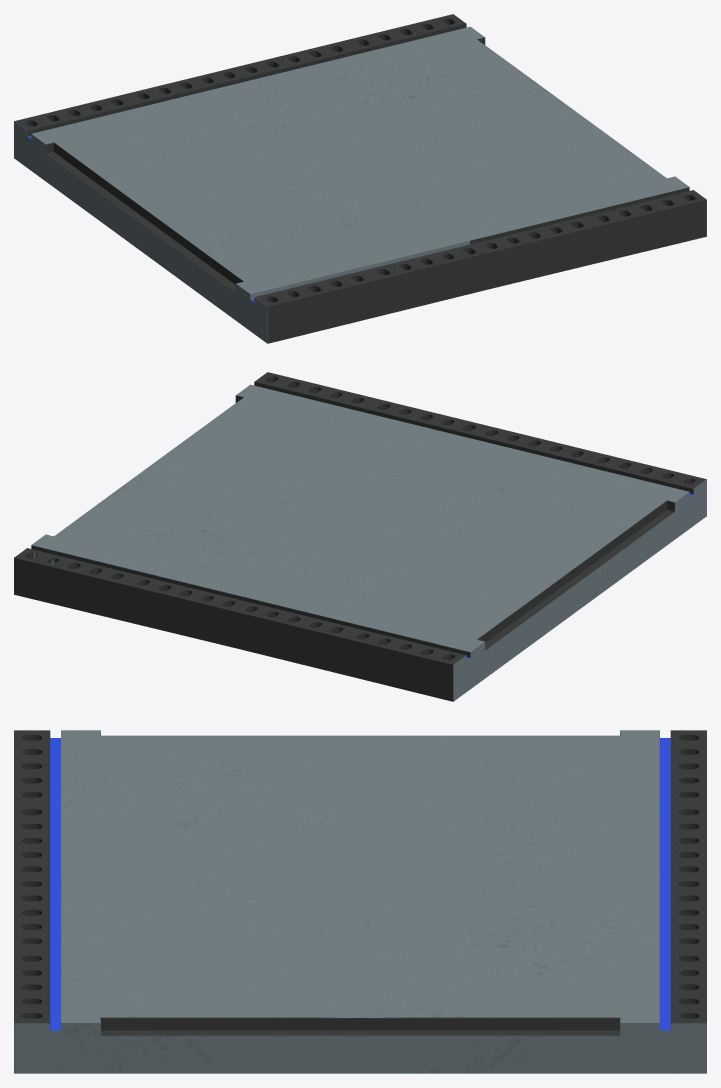
The model's file is piso link.fbx.
3 views of the same model, one above another, from view 1: azimuth 30°, elevation 25°; view 2: azimuth 150°, elevation 25°; view 3: azimuth 270°, elevation 25° (orthographic). The views are drawn at different scales.
Visible parts, largest first — view 1: Cube:012; view 2: Cube:012; view 3: Cube:012.
Part boxes in pixels (<box>): Cube:012: <box>14,14,706,343</box>; Cube:012: <box>14,372,706,701</box>; Cube:012: <box>14,730,706,1073</box>.
Bounding box in the file's own units: 2905 × 234 × 2905.
Materials: 1 (1 with a texture image).
